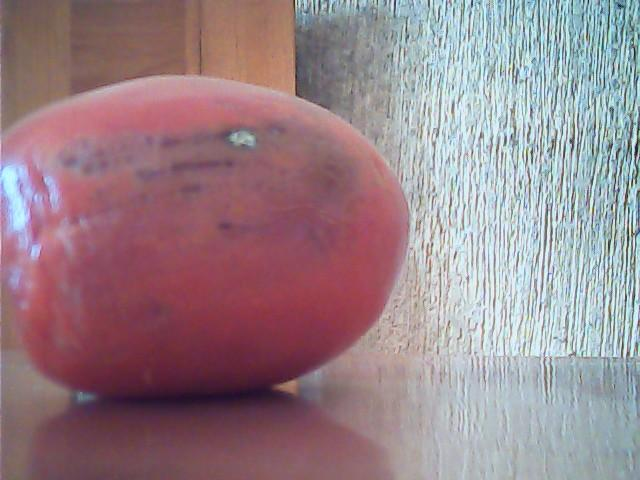defectuoso: (4, 72, 410, 394)
